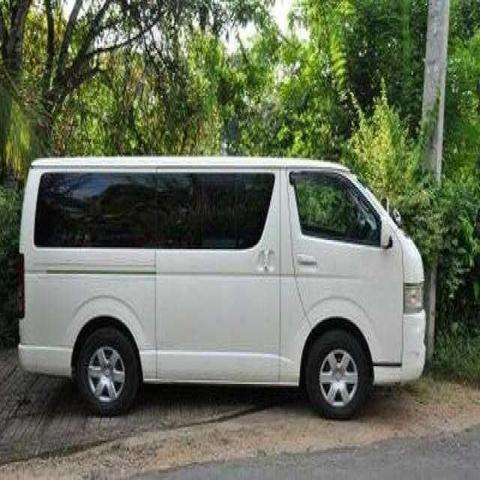van: (16, 157, 428, 424)
